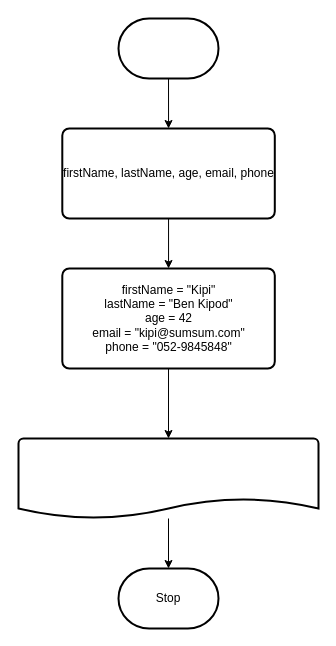
The diagram is 336 pixels wide and 646 high, and some of its shapes have lost their labels. Here are the shapes that lost their labels. From the top down, the centre of each, then its label:
pixel 168 48: Start
pixel 168 478: firstName + "\n" + lastName + "\n" + age + "\n" + phone
